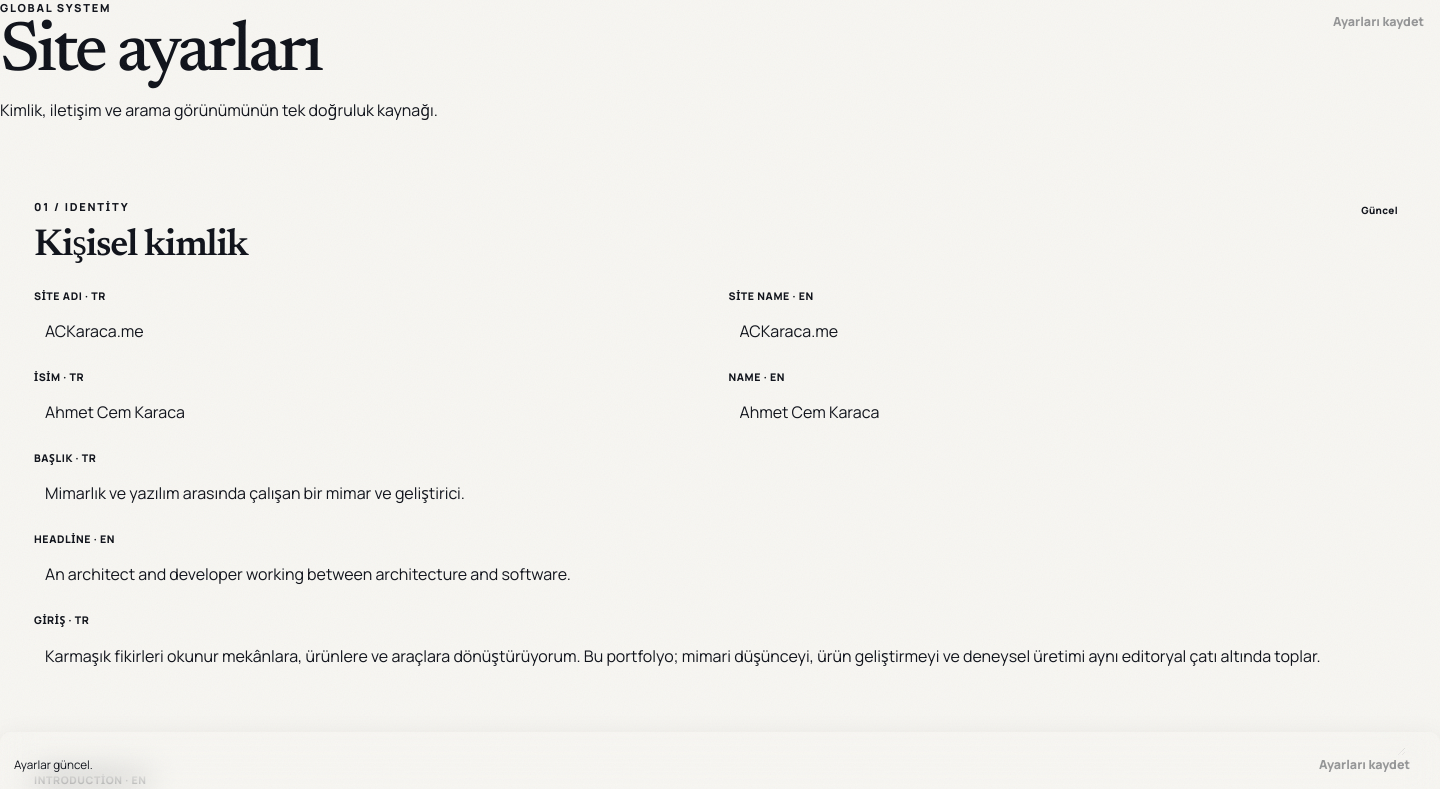
Test: SettingsEditor › edits the complete public identity and locale settings without exposing palette controls
Replace the text in the field labelled "Site adı · TR" with "ACKaraca Studio" at [373, 331], box [34,310,712,353]
(page scrolled)
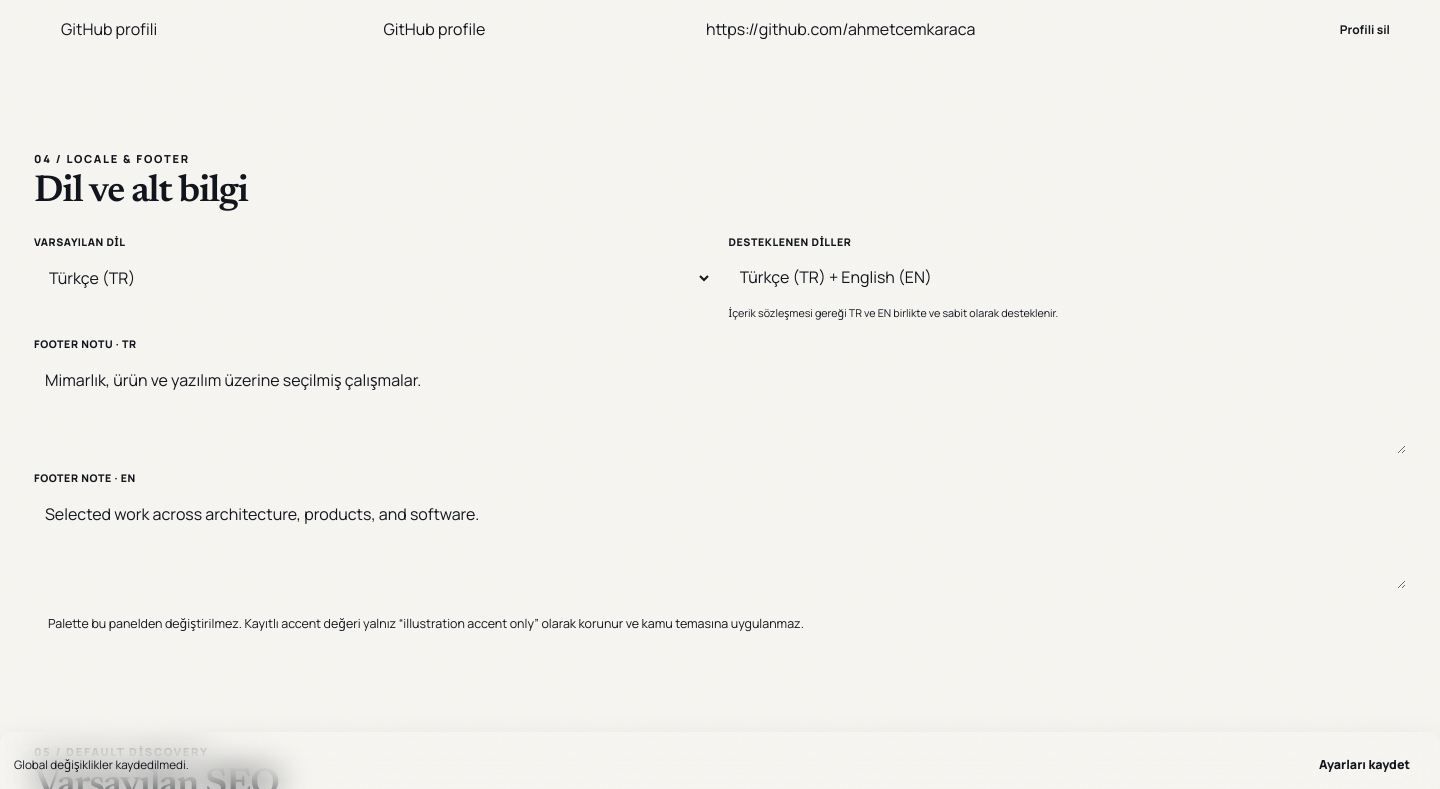
Replace the text in the text box labelled "Footer notu · TR" with "Mimarlık ve yazılım arasında seçilmiş işler." at [720, 406], box [34,358,1406,454]
(page scrolled)
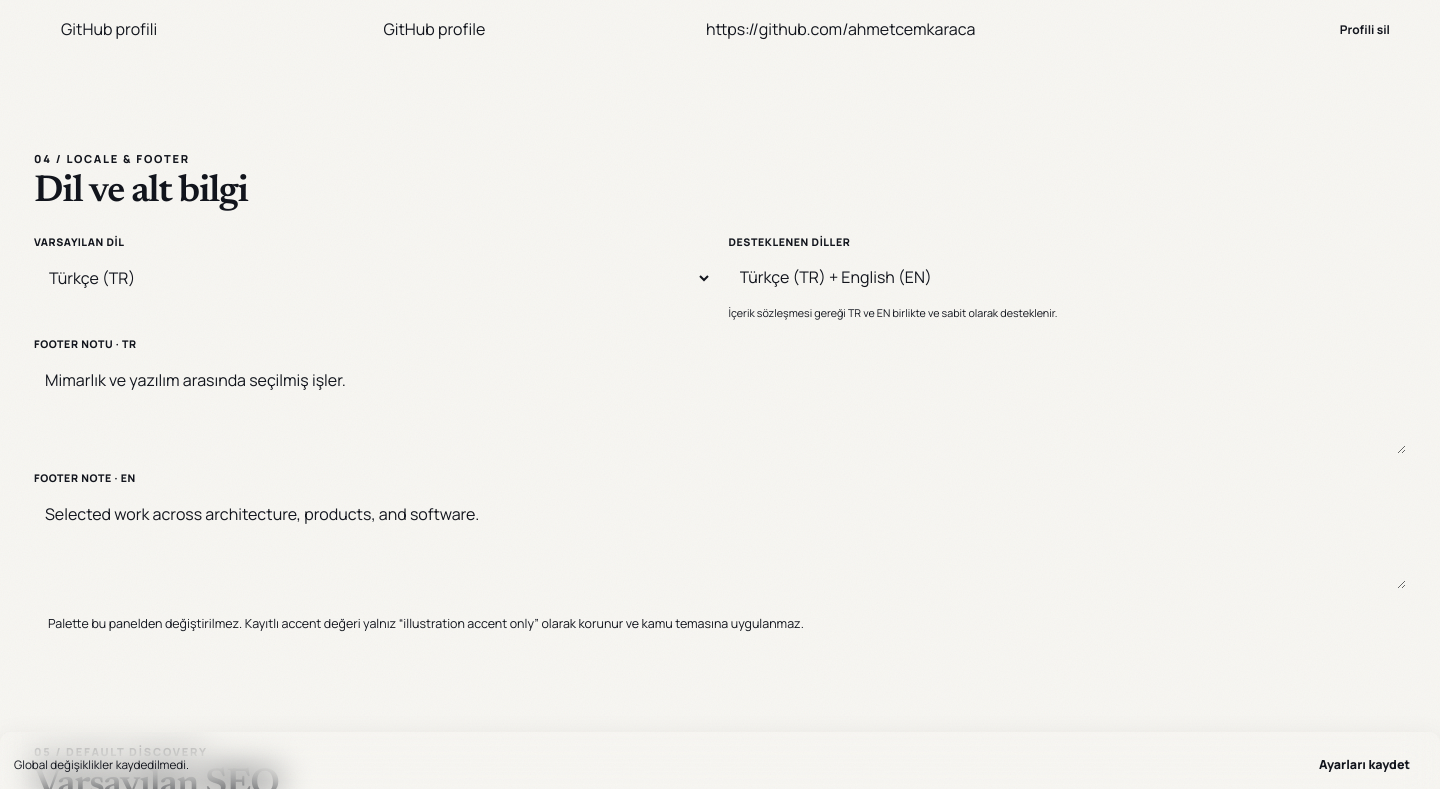
Select "English (EN)" in the dropdown labelled "Varsayılan dil" at [373, 278], box [34,256,712,300]
(page scrolled)
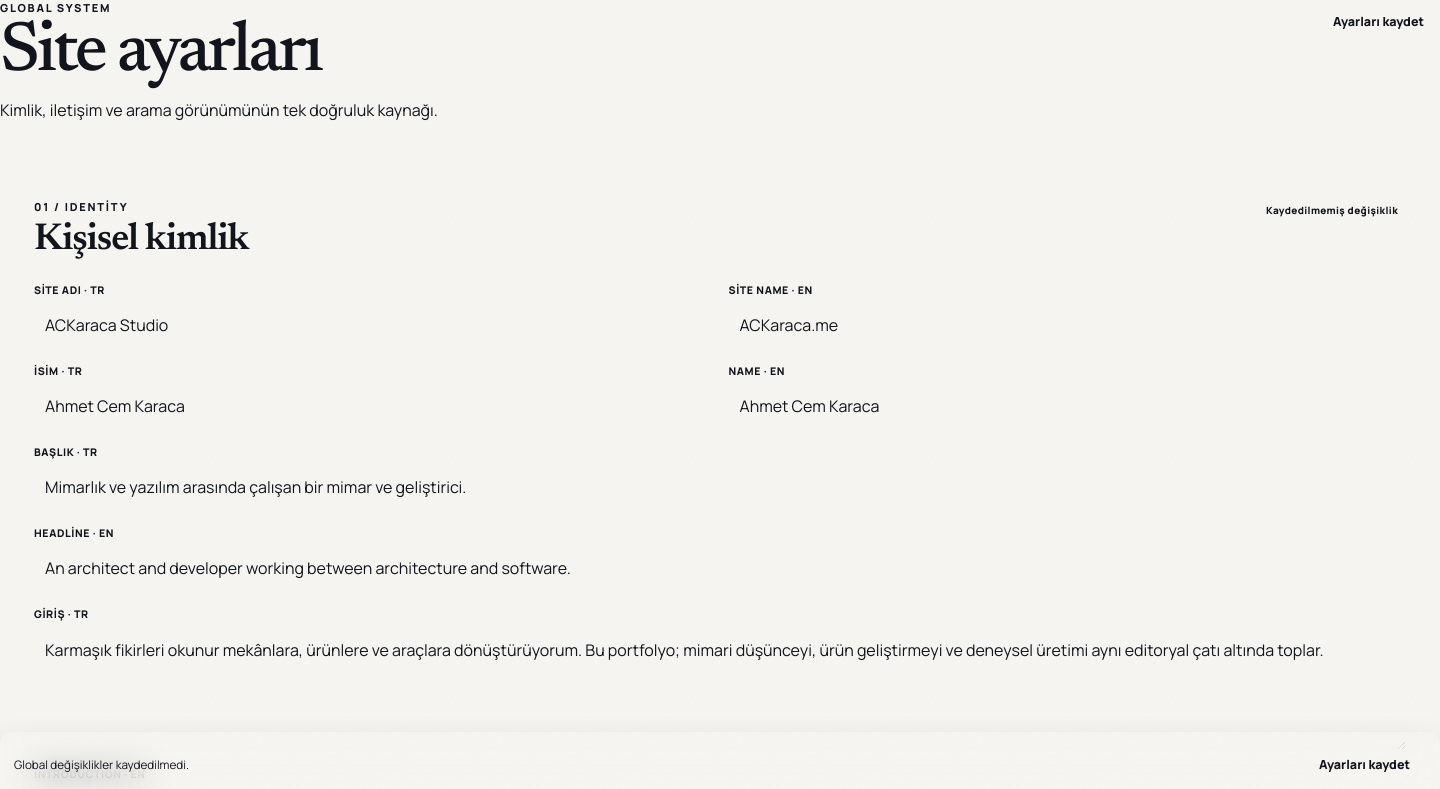
Click the button "Ayarları kaydet" in the row of "Site ayarları" at [1378, 21], box [1317,0,1439,42]
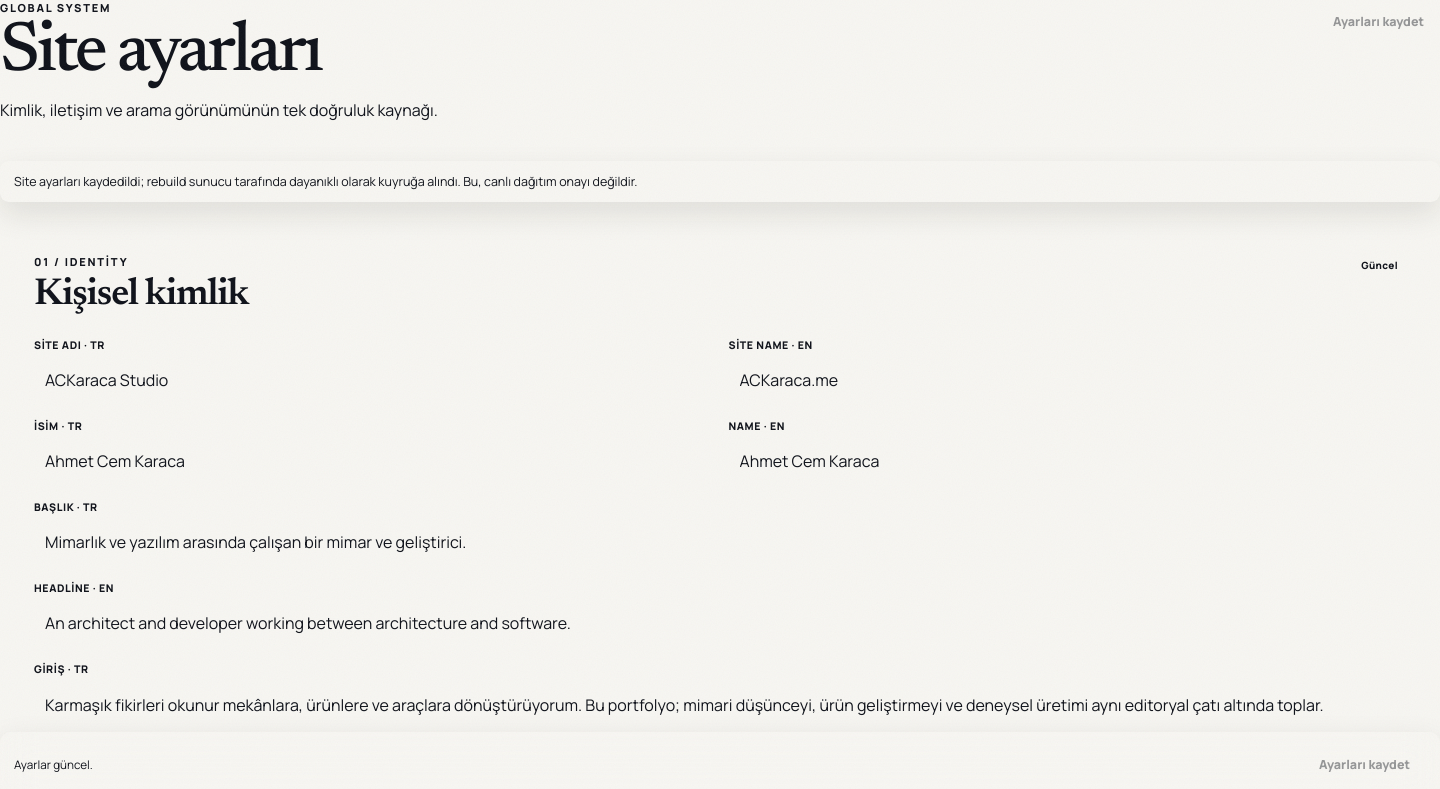
Check: the message shows "rebuild sunucu tarafında dayanıklı olarak kuyruğa alındı", box [14,173,637,190]
Check: the message shows "canlı dağıtım onayı değildir", box [14,173,637,190]
